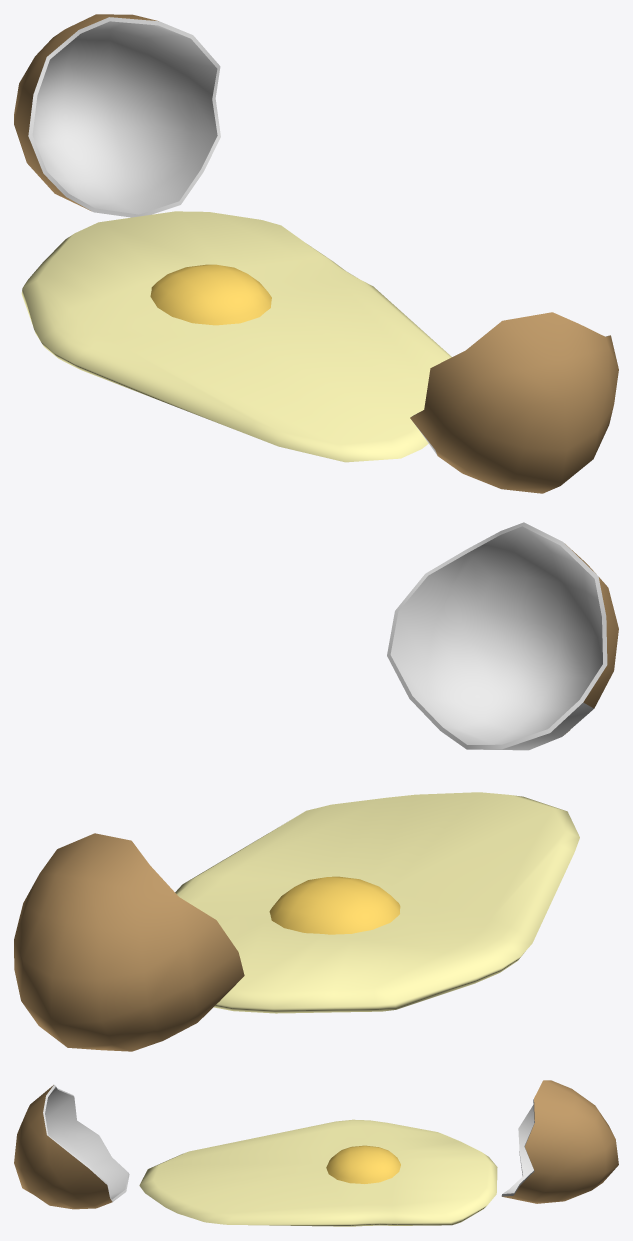
The picture shows the model from 3 angles, top to bottom: view 1: azimuth 30°, elevation 25°; view 2: azimuth 150°, elevation 25°; view 3: azimuth 270°, elevation 25°; orthographic projection. The views are drawn at different scales.
Visible parts, largest first — view 1: eg, shell, shell.001; view 2: eg, shell.001, shell; view 3: eg, shell, shell.001.
Part boxes in pixels (left/top/right/bottom): eg: left=21, top=211, right=451, bottom=462; shell: left=14, top=14, right=220, bottom=217; shell.001: left=410, top=312, right=618, bottom=493; eg: left=175, top=792, right=579, bottom=1013; shell.001: left=387, top=522, right=618, bottom=750; shell: left=14, top=833, right=244, bottom=1051; eg: left=139, top=1119, right=497, bottom=1226; shell: left=501, top=1080, right=618, bottom=1203; shell.001: left=14, top=1084, right=129, bottom=1209.
Size of the model in its own units: 359 by 196 by 919.
